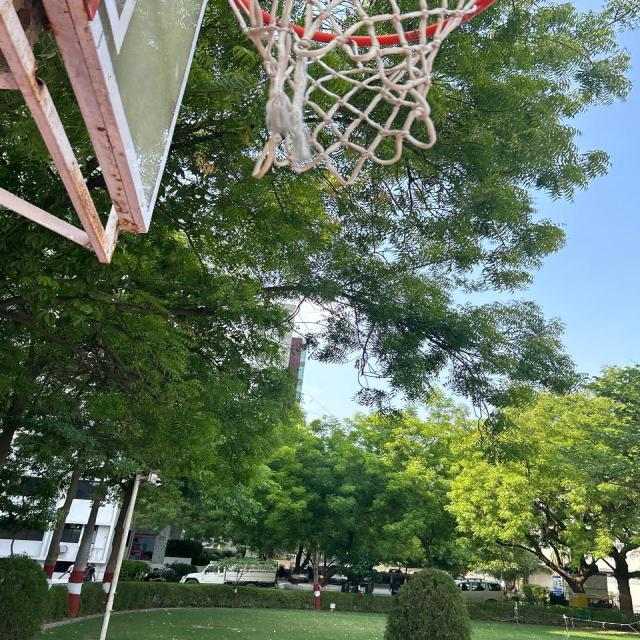hoop: (189, 0, 533, 199)
